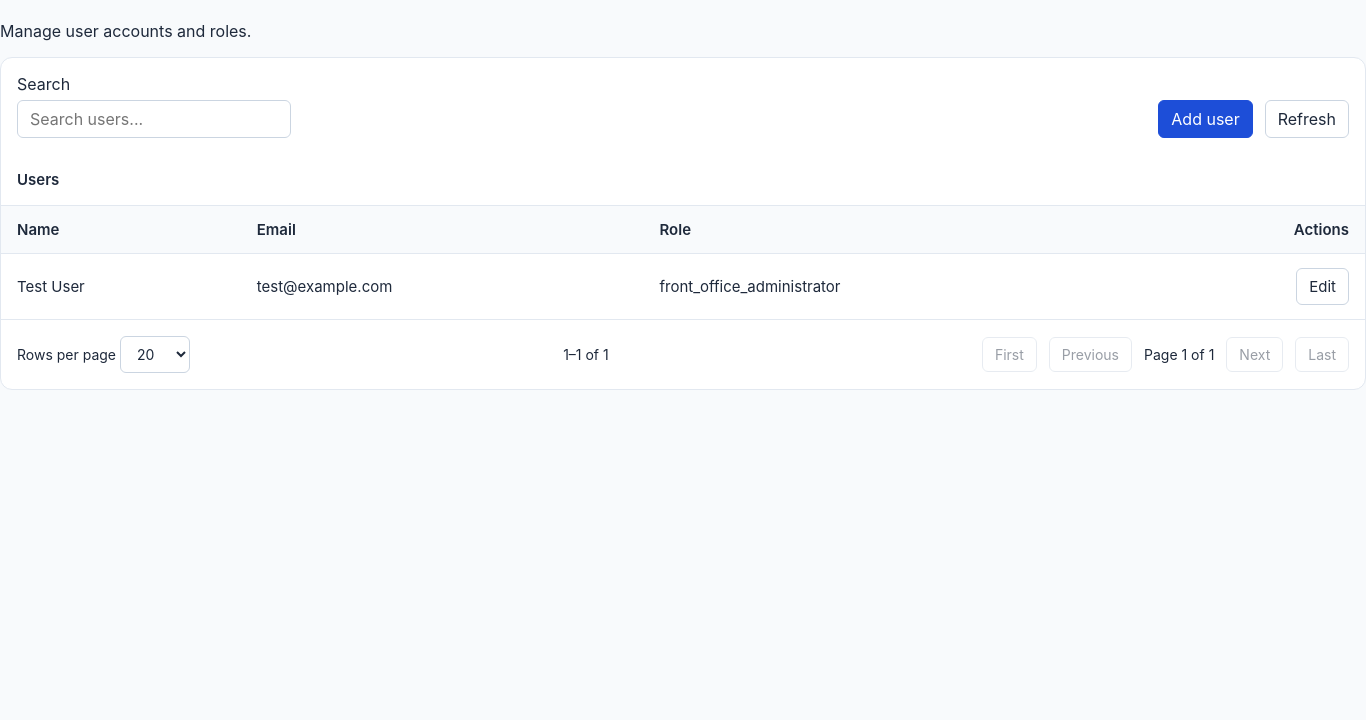
it: Users page › creates with the exact fields and preserves password whitespace
Click the button "Add user": {"x": 1206, "y": 119} [1158, 100, 1253, 138]
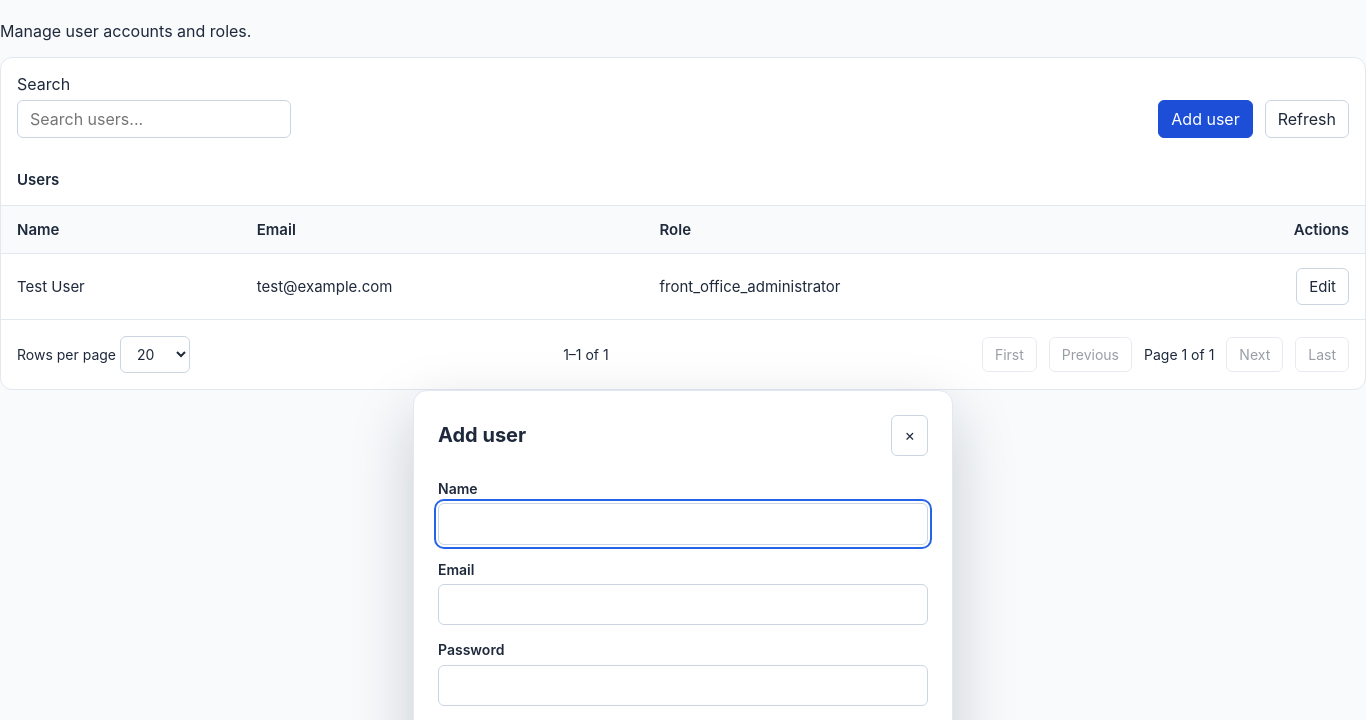
In the field named "name": {"x": 683, "y": 524} [438, 503, 928, 545], type " Test User "
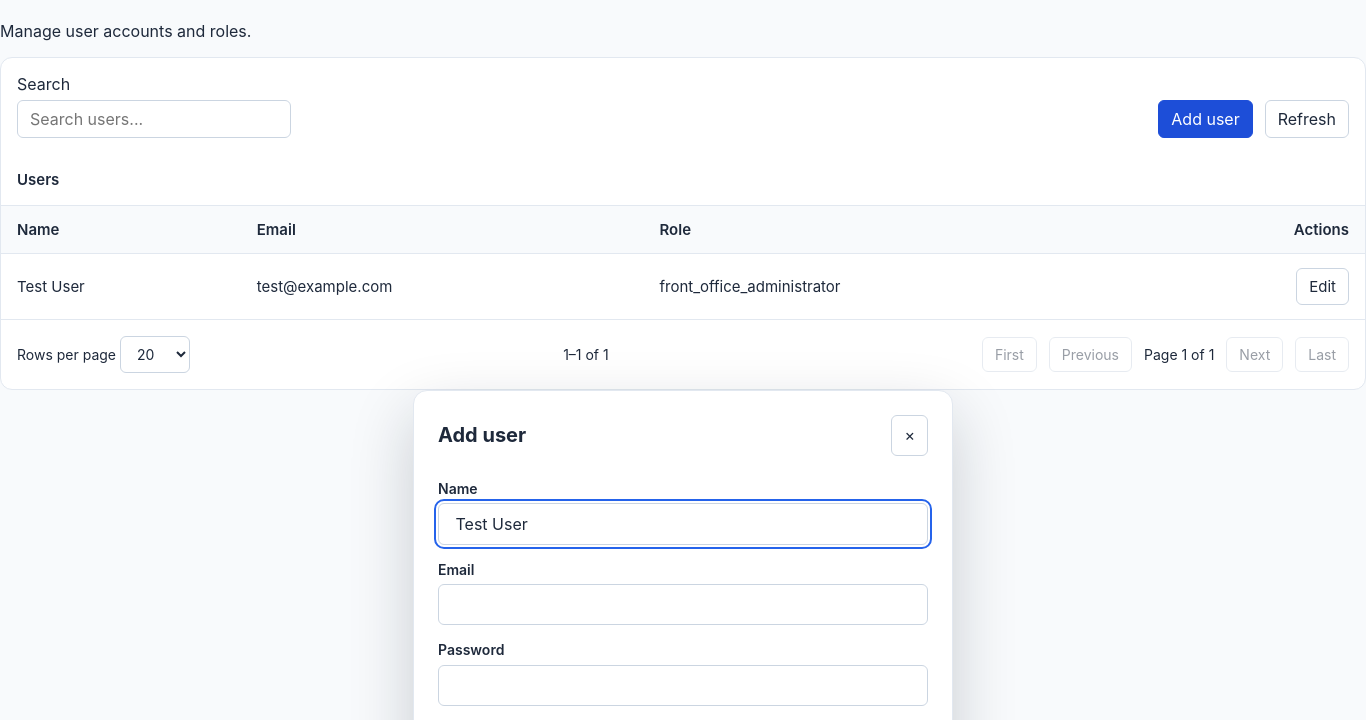
In the field named "email": {"x": 683, "y": 605} [438, 584, 928, 625], type " test@example.com "
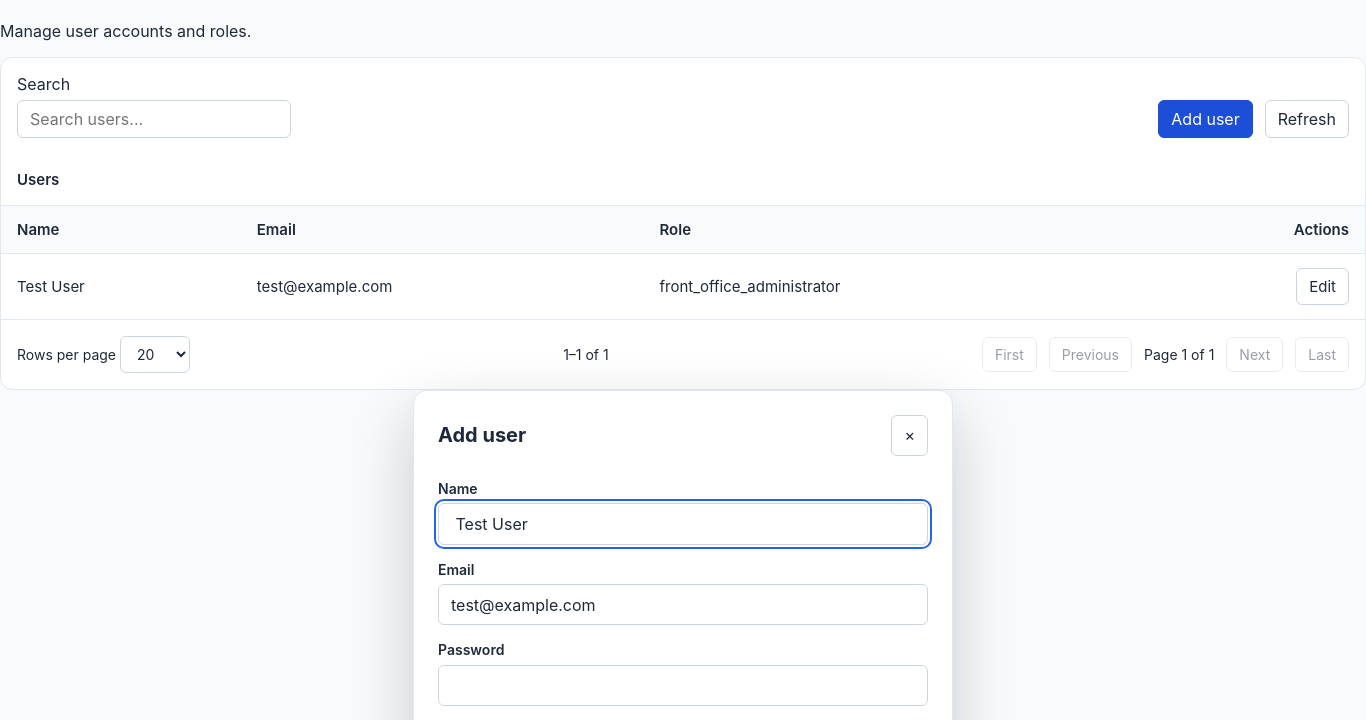
In the password field named "password": {"x": 683, "y": 685} [438, 664, 928, 706], type " password "
(page scrolled)
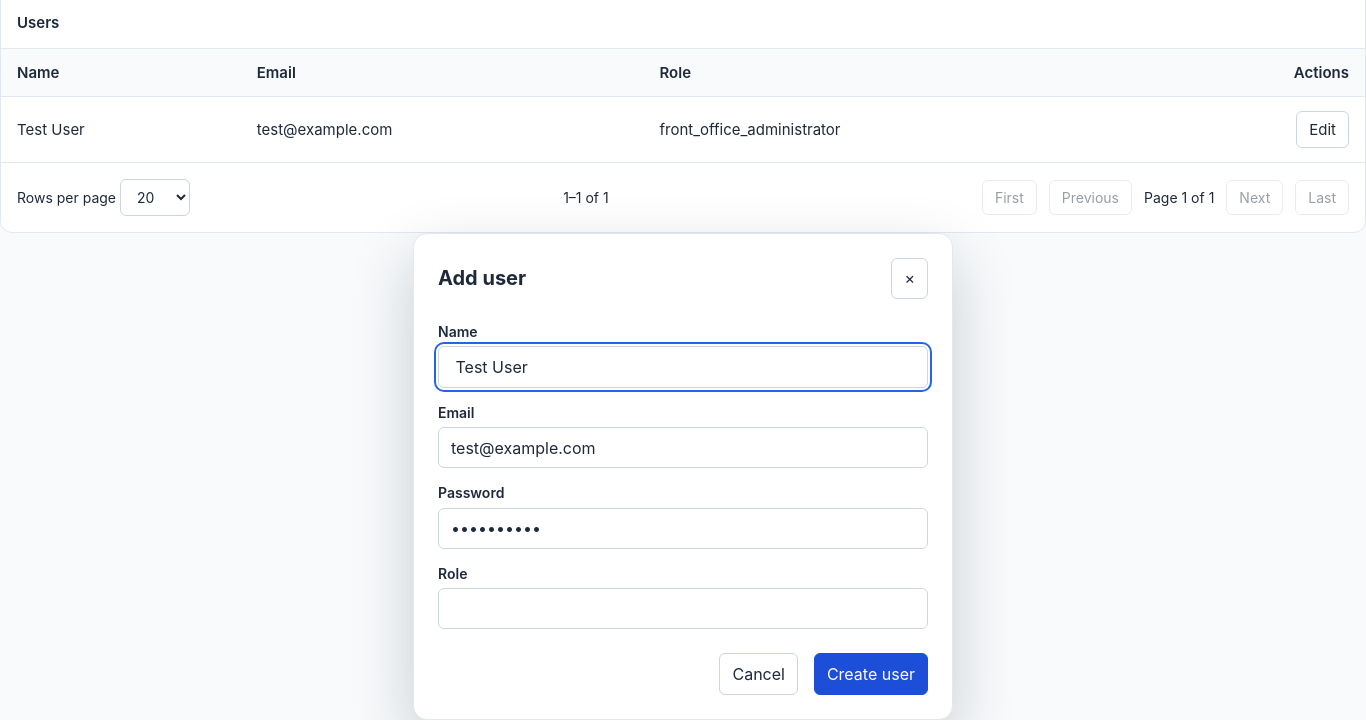
In the field named "role": {"x": 683, "y": 609} [438, 588, 928, 629], type "front_office_administrator"
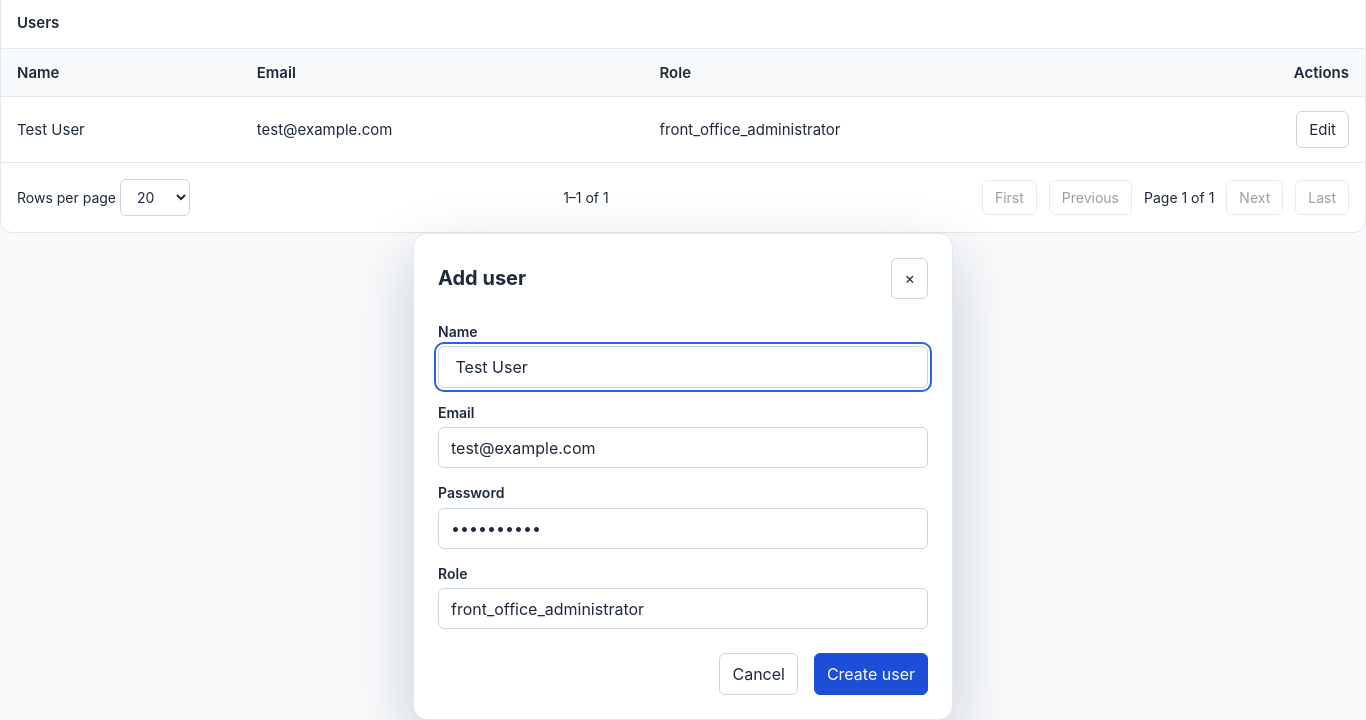
Submit the form, box [438, 258, 928, 694]
(page scrolled)
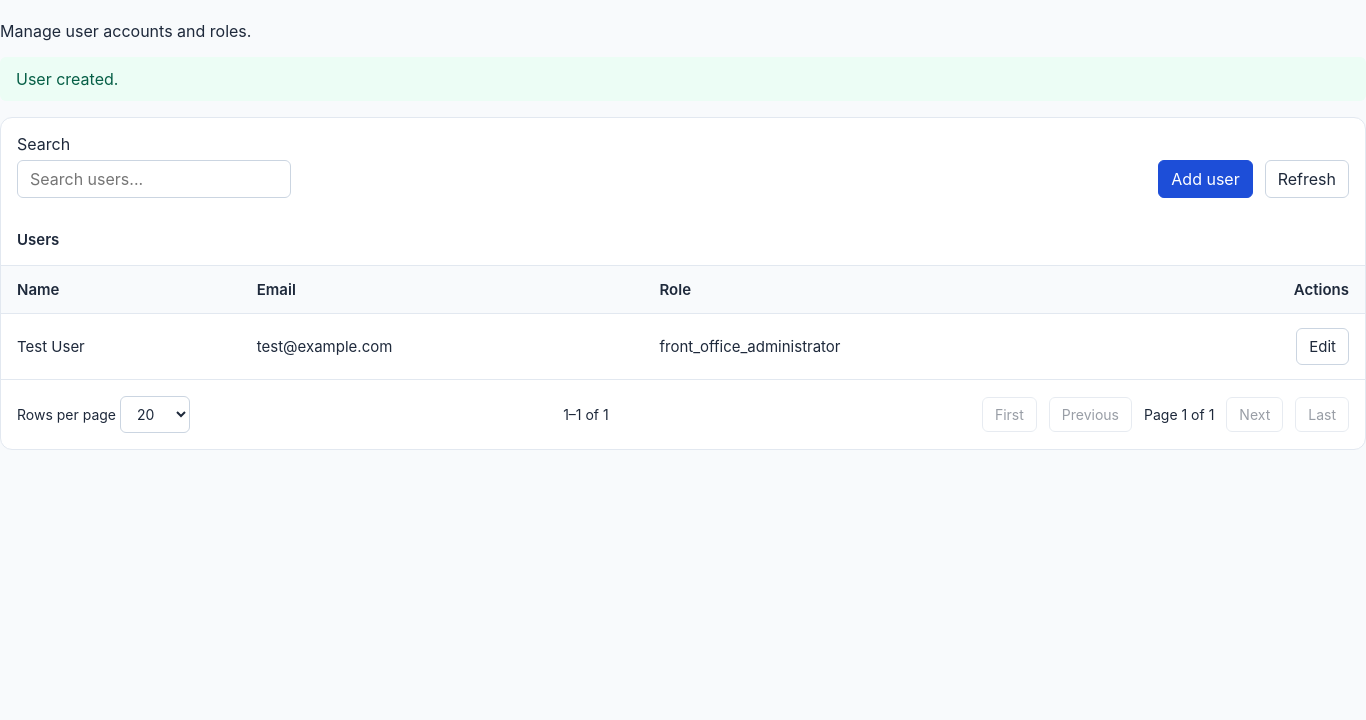
Expected: the text "User created." is shown, [0, 57, 1365, 101]
